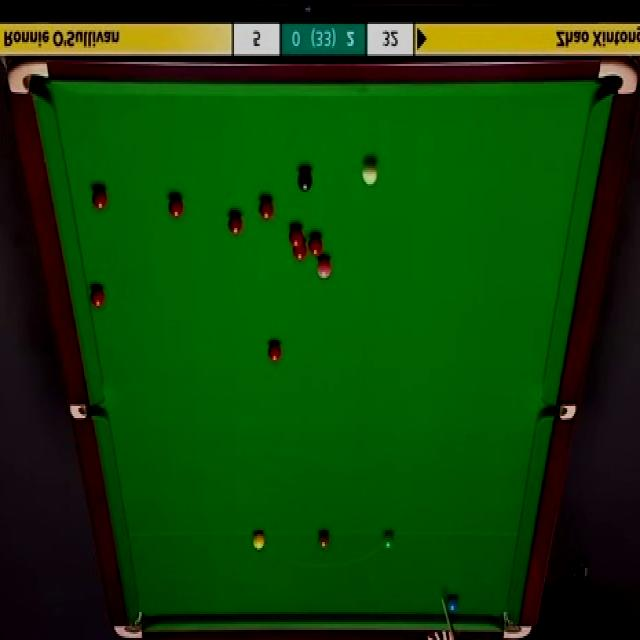black-ball: (297, 166, 314, 192)
blue-ball: (445, 593, 461, 618)
brown-ball: (317, 529, 331, 549)
green-ball: (382, 528, 396, 550)
pink-ball: (314, 255, 332, 279)
red-ball: (92, 184, 108, 212), (227, 212, 243, 239), (258, 196, 274, 222), (167, 195, 184, 219), (267, 340, 283, 364), (307, 235, 324, 257), (288, 224, 304, 247), (89, 285, 104, 309), (291, 240, 308, 261)
white-ball: (362, 160, 378, 187)
yellow-ball: (252, 530, 266, 550)
